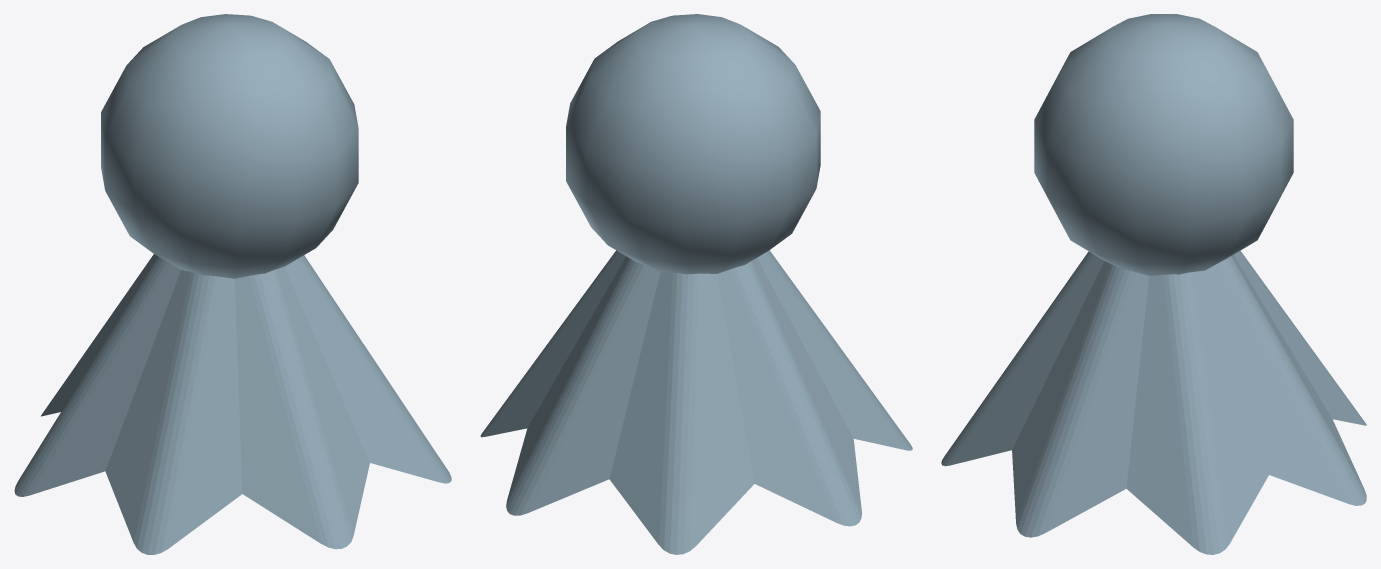
Rendered from char.glb.
3 views of the same model, side by side, from view 1: azimuth 30°, elevation 25°; view 2: azimuth 150°, elevation 25°; view 3: azimuth 270°, elevation 25° (orthographic).
Visible parts, largest first — view 1: Sphere; view 2: Sphere; view 3: Sphere.
Boxes of the visible parts, x1=… form: Sphere: x1=14, y1=14, x2=451, y2=554; Sphere: x1=480, y1=14, x2=912, y2=554; Sphere: x1=941, y1=14, x2=1366, y2=554.
Size of the model in its own units: 3.28 by 3.63 by 3.2.
